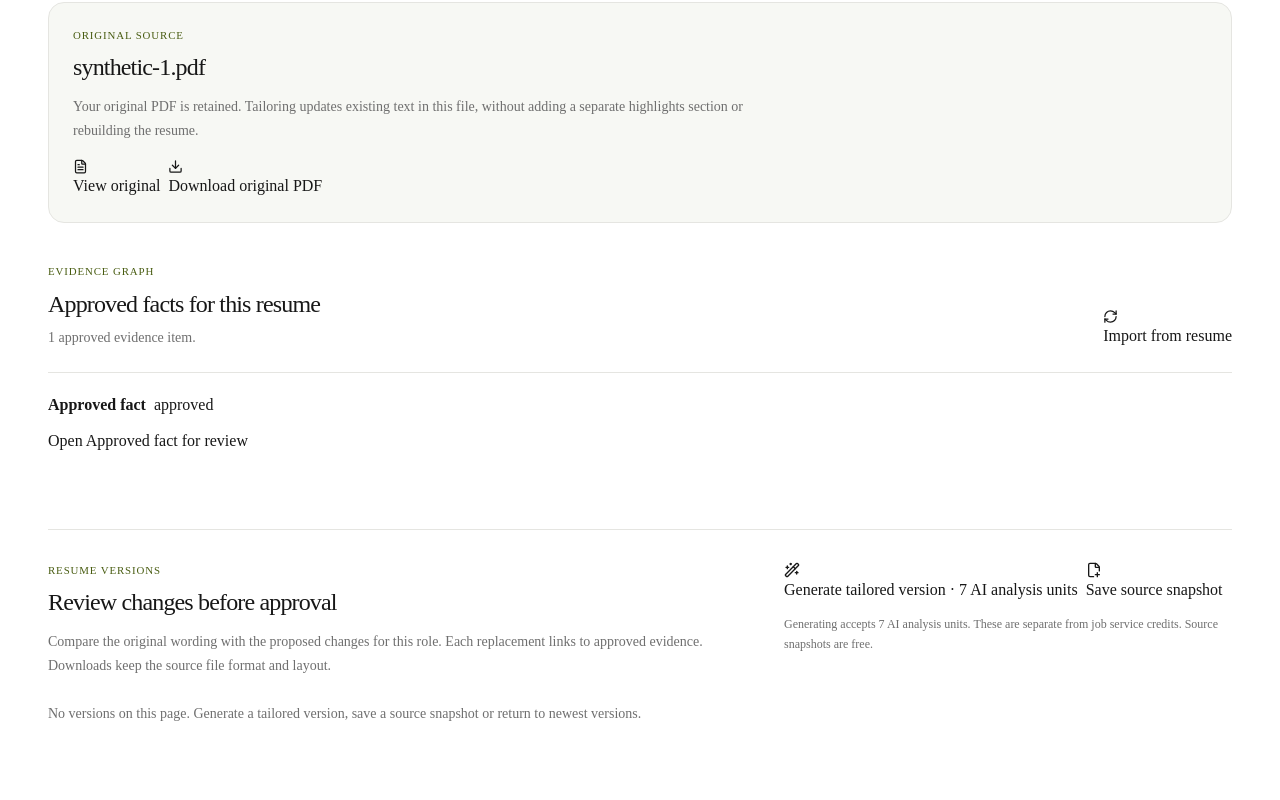
Test: binds Approve evidence to the exact rendered evidence version
Later steps or results of the test are not shown.
(page scrolled)
Click the button "Open Approved fact for review" at (148, 441), box [48,429,248,453]
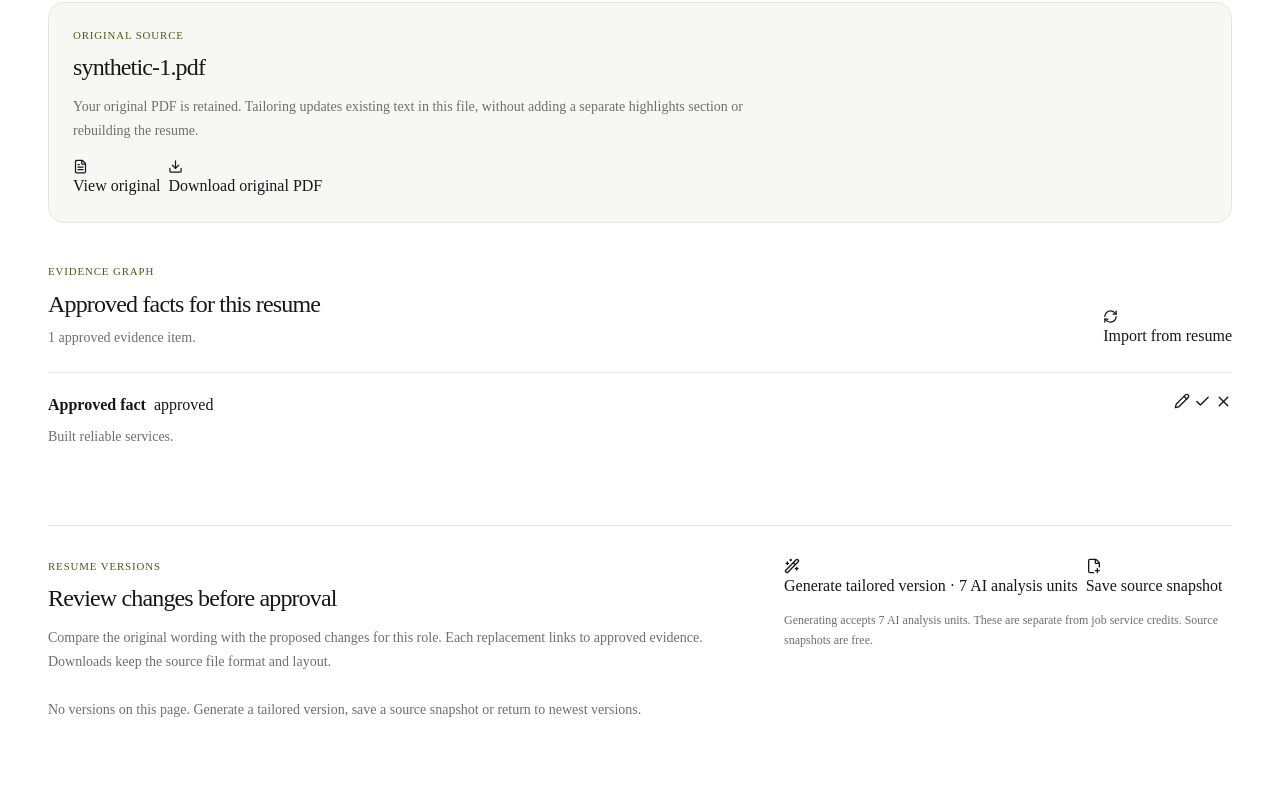
Result: the button named "Edit evidence" is shown at [1174,393,1190,409]
